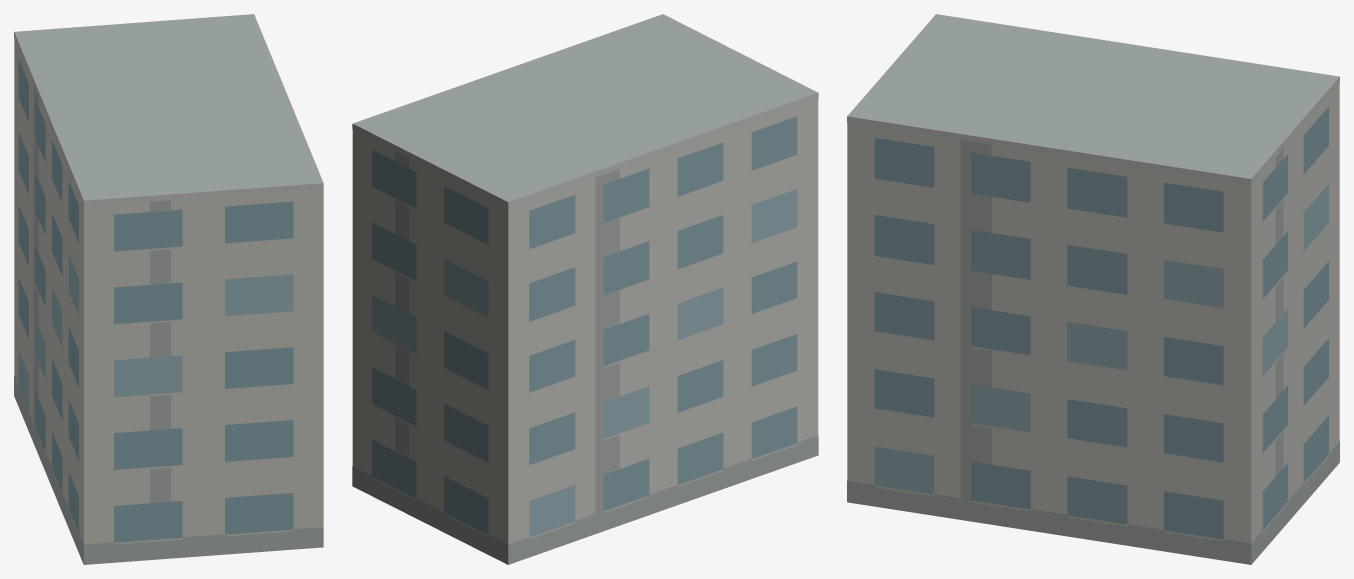
Rendered from residential-624287db-0583-446e-a5de-c2fa2221b2af.glb.
The picture shows the model from 3 angles, left to right: view 1: azimuth 30°, elevation 25°; view 2: azimuth 150°, elevation 25°; view 3: azimuth 270°, elevation 25°; orthographic projection. The views are drawn at different scales.
Visible parts, largest first — view 1: residential-624287db-0583-446e-a5de-c2fa2221b2af.tmp; view 2: residential-624287db-0583-446e-a5de-c2fa2221b2af.tmp; view 3: residential-624287db-0583-446e-a5de-c2fa2221b2af.tmp.
Boxes of the visible parts, box(x1,y1,x2,y2) form: residential-624287db-0583-446e-a5de-c2fa2221b2af.tmp: box(14, 14, 323, 564); residential-624287db-0583-446e-a5de-c2fa2221b2af.tmp: box(352, 14, 818, 564); residential-624287db-0583-446e-a5de-c2fa2221b2af.tmp: box(847, 14, 1339, 564).
Bounding box in the file's own units: 13.99 × 15.25 × 17.66.
